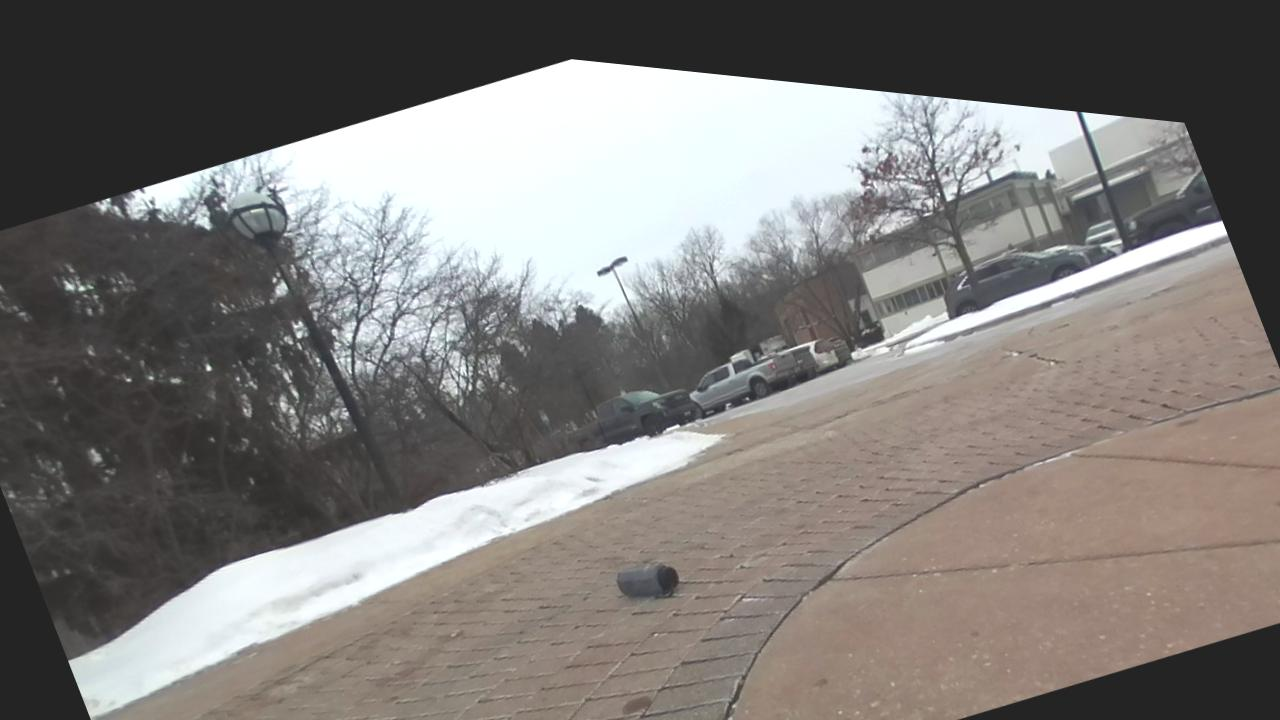bottle: (616, 563, 679, 596)
